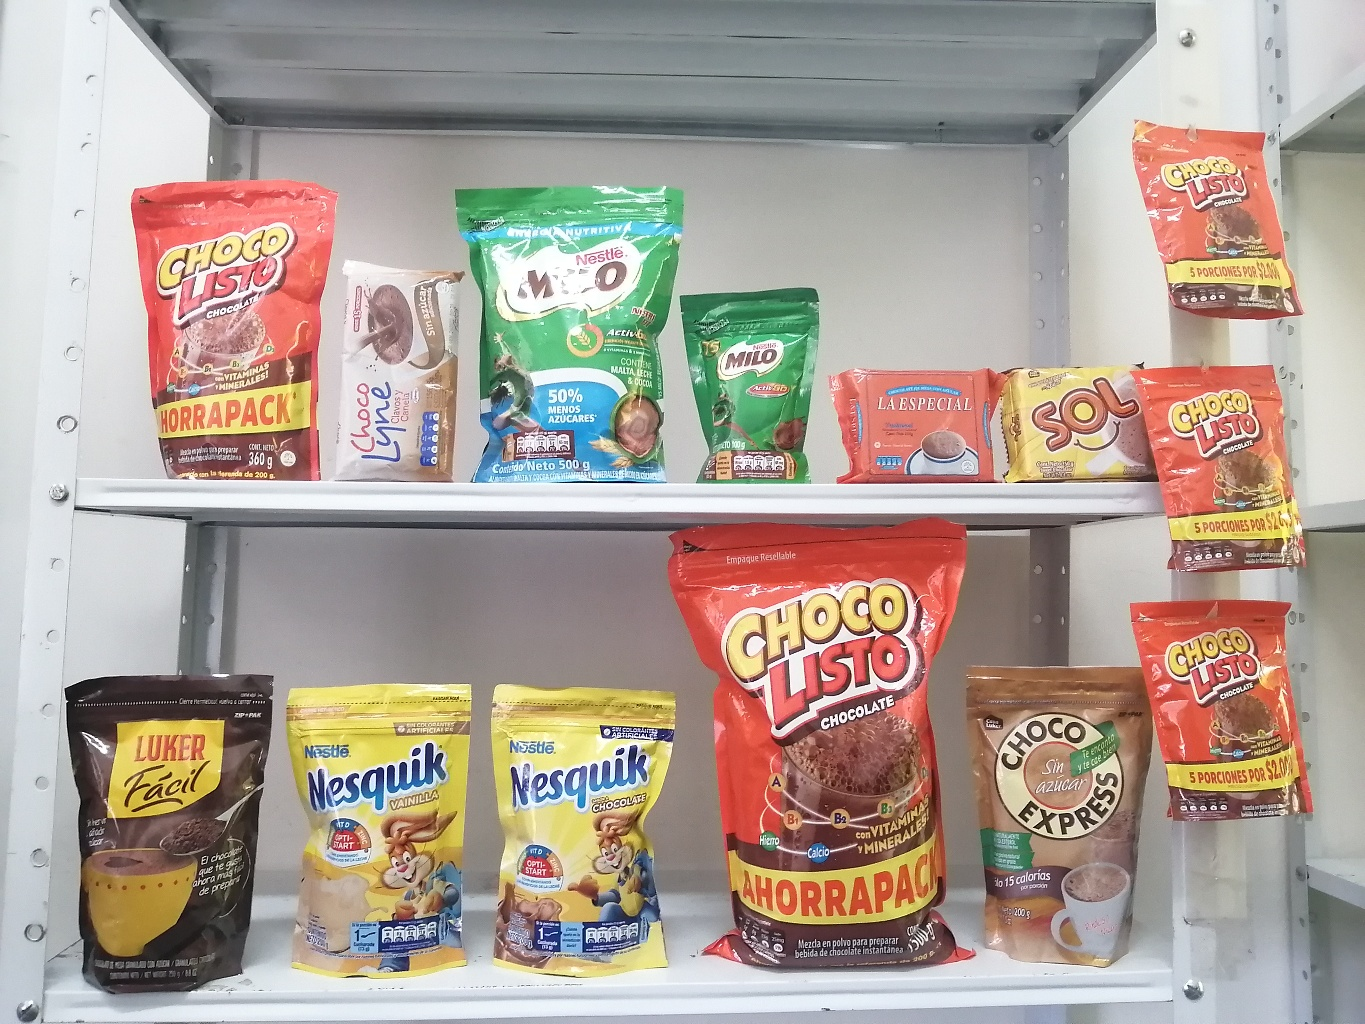COL0170103DYP1,500: (655, 521, 1014, 979)
COL0170103DYP36000: (110, 153, 338, 490)
COL0170203DYP10000: (662, 268, 831, 490)
COL0170205DYP50000: (440, 162, 697, 493)
COL0170303DYP20000: (484, 664, 681, 984)
COL0170306DYP20000: (253, 666, 508, 997)
